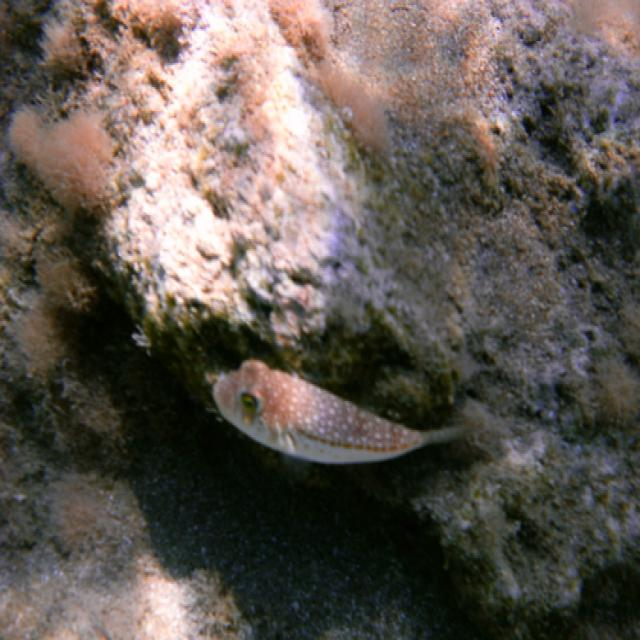Balik: (214, 361, 467, 464)
